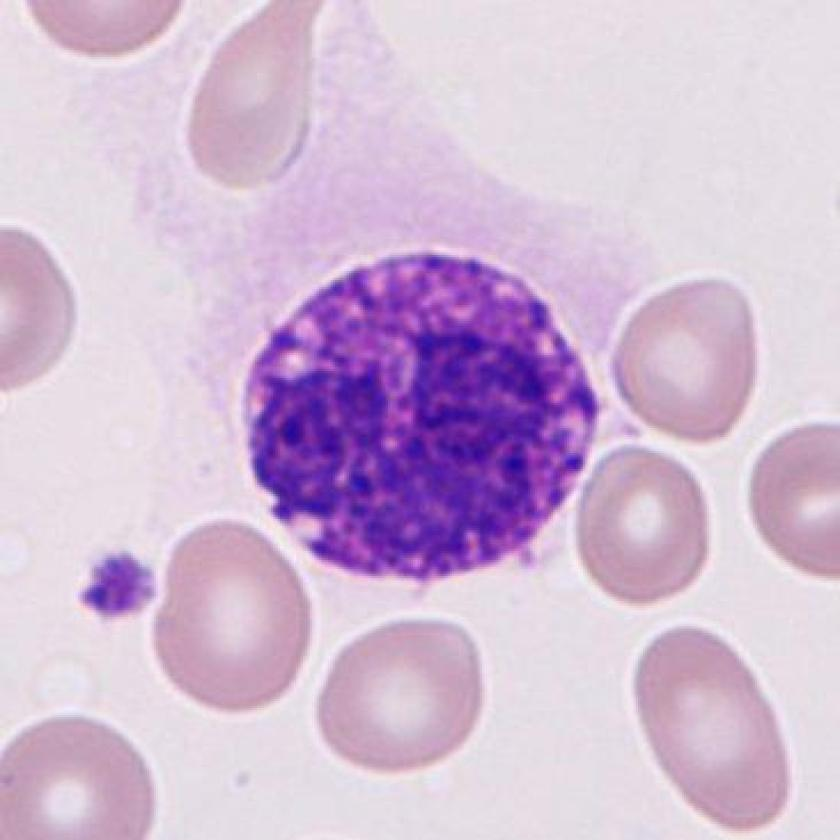basophil: (224, 238, 612, 581)
